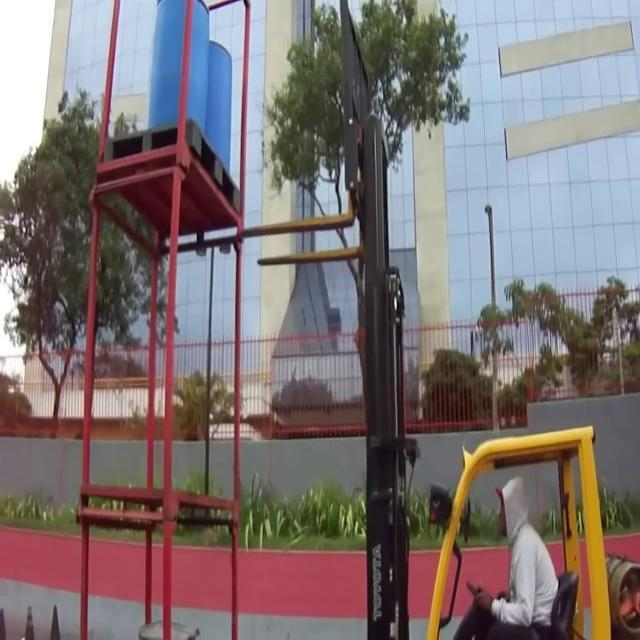forklift: (408, 411, 629, 640)
